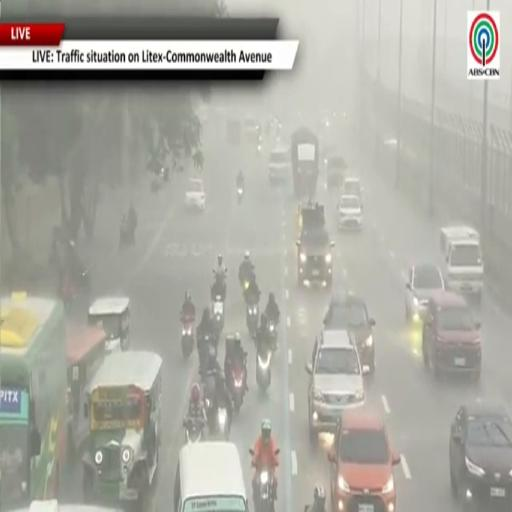bus: (0, 293, 67, 509)
car: (328, 408, 401, 511), (450, 402, 511, 511), (306, 330, 365, 442), (422, 291, 481, 381), (324, 293, 375, 375), (297, 203, 335, 286), (406, 264, 445, 324), (11, 500, 122, 511), (337, 194, 362, 230), (269, 144, 291, 184), (325, 155, 347, 188), (185, 179, 205, 211), (342, 176, 363, 200)
jeepney: (83, 351, 162, 511), (66, 325, 106, 460), (88, 297, 130, 351), (17, 500, 121, 511)
motorcycle: (206, 396, 230, 440), (254, 468, 275, 511), (230, 362, 246, 412), (256, 344, 272, 391), (182, 317, 194, 359), (212, 295, 224, 335), (211, 269, 226, 301), (246, 303, 259, 339), (183, 420, 203, 443), (216, 408, 230, 440), (268, 319, 277, 349), (237, 187, 243, 204)
truck: (441, 226, 483, 302), (291, 127, 319, 199)
